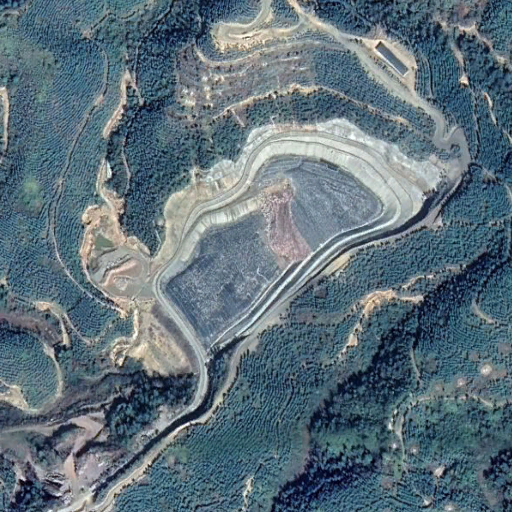lf: (161, 130, 418, 357)
